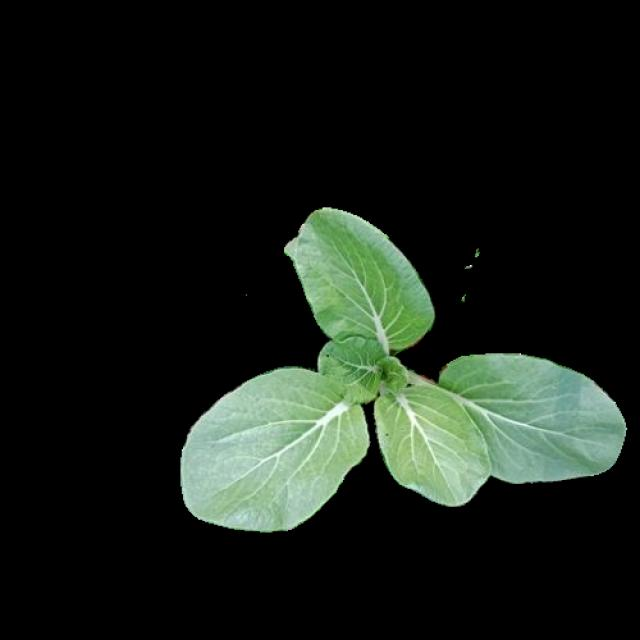healthy: (183, 216, 622, 525)
not-mature: (190, 236, 630, 544)
